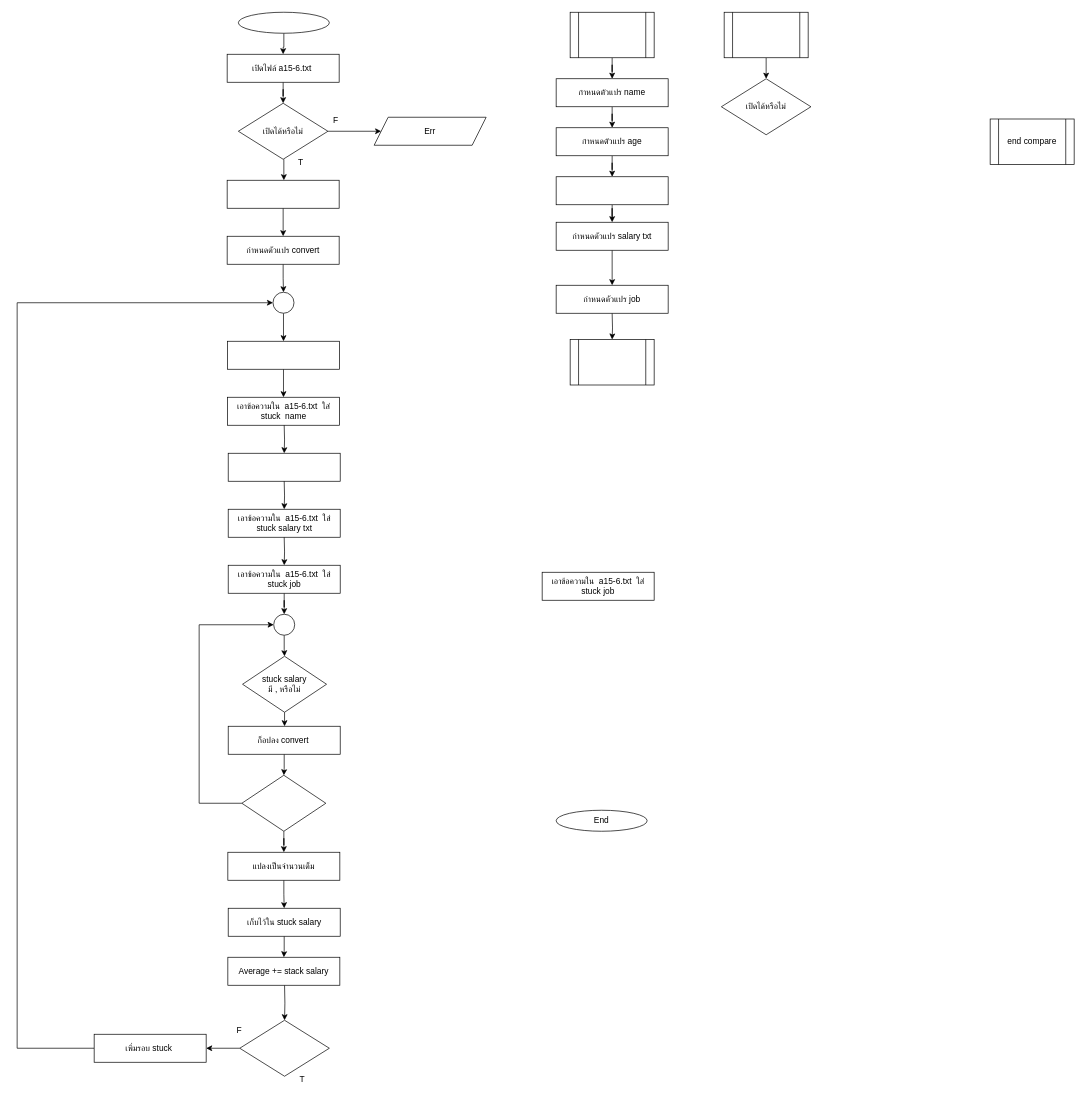
Some shapes in this 1086 by 1103 pixel diagram are drawn without their labels. The shapes that lost their labels are listed below. From the top down, each one's centre as x and y in pixels, then its label:
At point (283, 22): "Start".
At point (611, 35): "start stuck user".
At point (765, 35): "start compare".
At point (282, 194): "กำหนดตัวแปร Average".
At point (611, 190): "กำหนดตัวแปร salary".
At point (283, 355): "อ่านไฟล์ a15-6.txt".
At point (611, 362): "end stuck user".
At point (283, 467): "เอาข้อความใน a15-6.txt ใส่ stuck age".
At point (283, 803): "stuck salary txt วนครบแล้วหรือไม่".
At point (284, 1048): "ครบทุกตัวแล้วหรือไม่".
